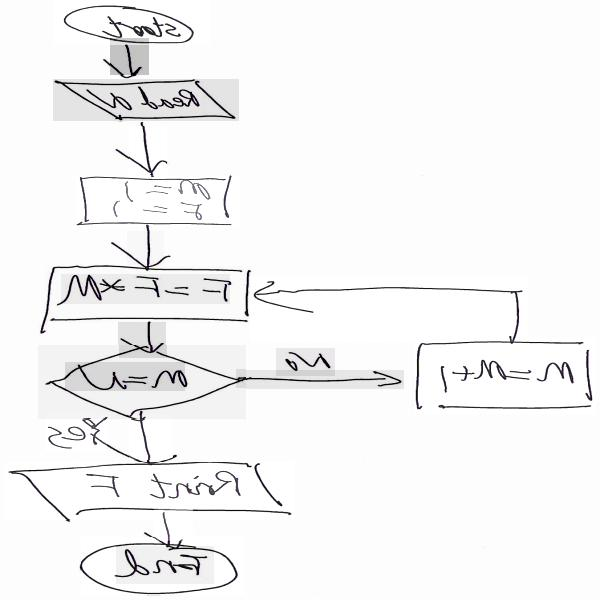arrow: (250, 276, 527, 342), (235, 370, 404, 389), (128, 415, 173, 460), (128, 126, 166, 174), (118, 322, 166, 359), (110, 37, 149, 76), (127, 231, 164, 265), (154, 510, 193, 542)
data: (4, 462, 294, 520), (53, 80, 238, 121)
decision: (38, 345, 246, 419)
process: (414, 338, 596, 414), (45, 266, 251, 323), (75, 175, 239, 227)
terminator: (81, 538, 244, 596), (54, 0, 210, 45)
text: (74, 466, 246, 505), (431, 356, 575, 396), (61, 274, 230, 304), (112, 180, 210, 219), (116, 547, 214, 585), (64, 363, 184, 392), (98, 5, 191, 41), (86, 88, 201, 111), (45, 412, 107, 452), (276, 348, 335, 376)
